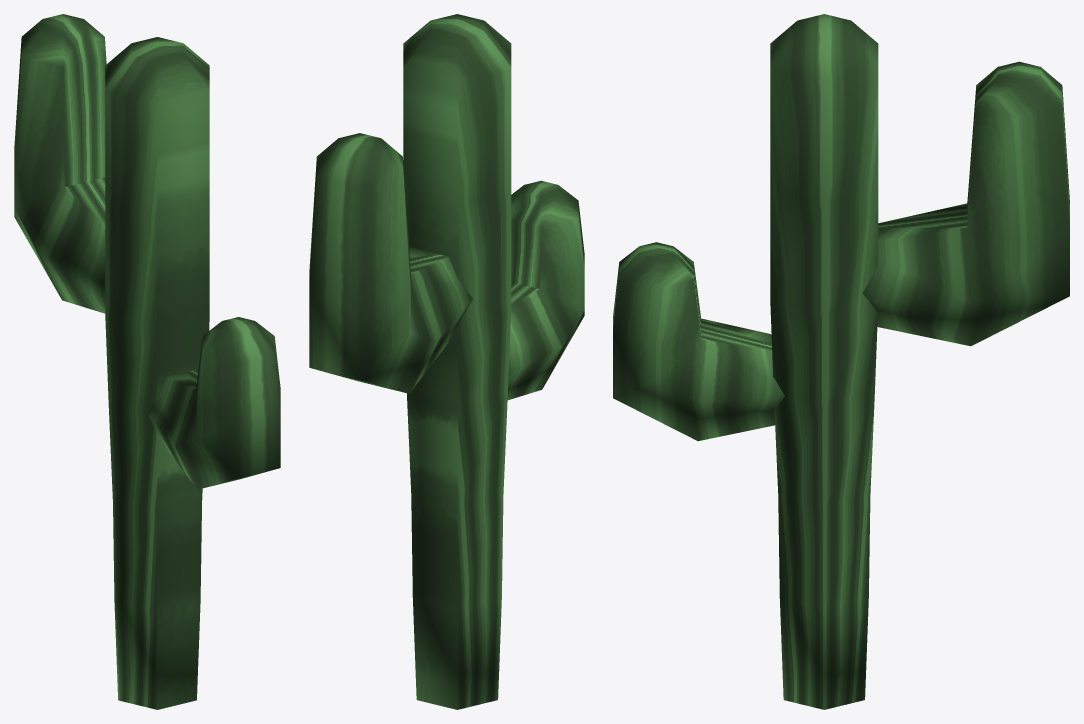
File: Cactus_1.FBX
3 renders of one model, left to right at view 1: azimuth 30°, elevation 25°; view 2: azimuth 150°, elevation 25°; view 3: azimuth 270°, elevation 25°, orthographic. The views are drawn at different scales.
Parts seen in each view (by area): view 1: Cactus_1; view 2: Cactus_1; view 3: Cactus_1.
Boxes of the visible parts, bbox=[...] form: Cactus_1: bbox=[14, 14, 280, 709]; Cactus_1: bbox=[309, 14, 584, 709]; Cactus_1: bbox=[613, 14, 1069, 709].
Bounding box in the file's own units: 2.14 × 7.82 × 12.65.
